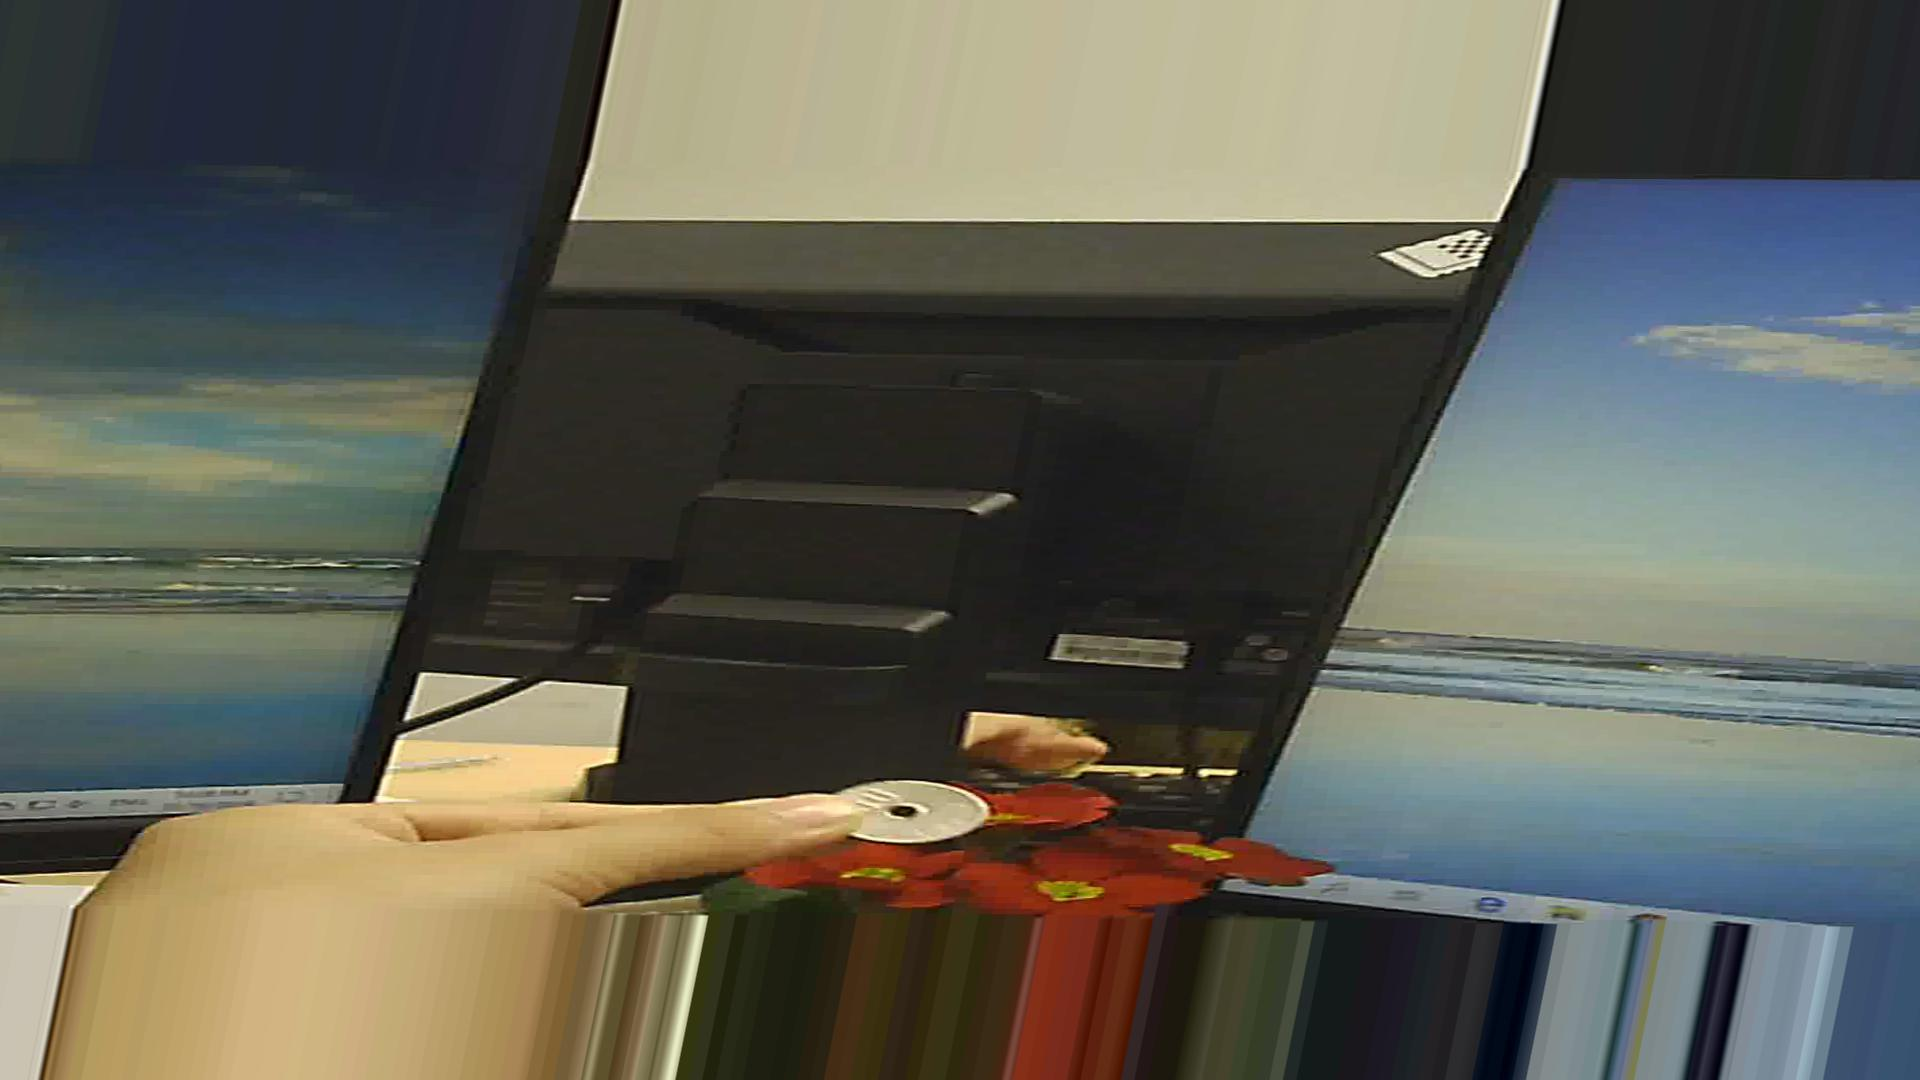50 Yen: (827, 766, 982, 851)
